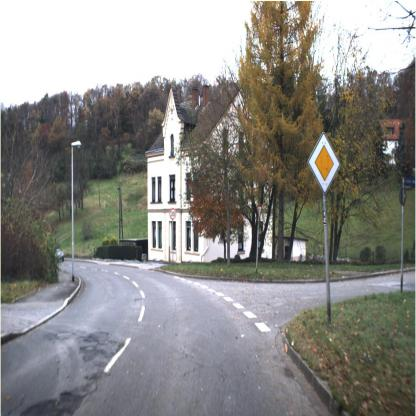other: (302, 124, 344, 198)
prohibitory: (168, 206, 178, 222)
